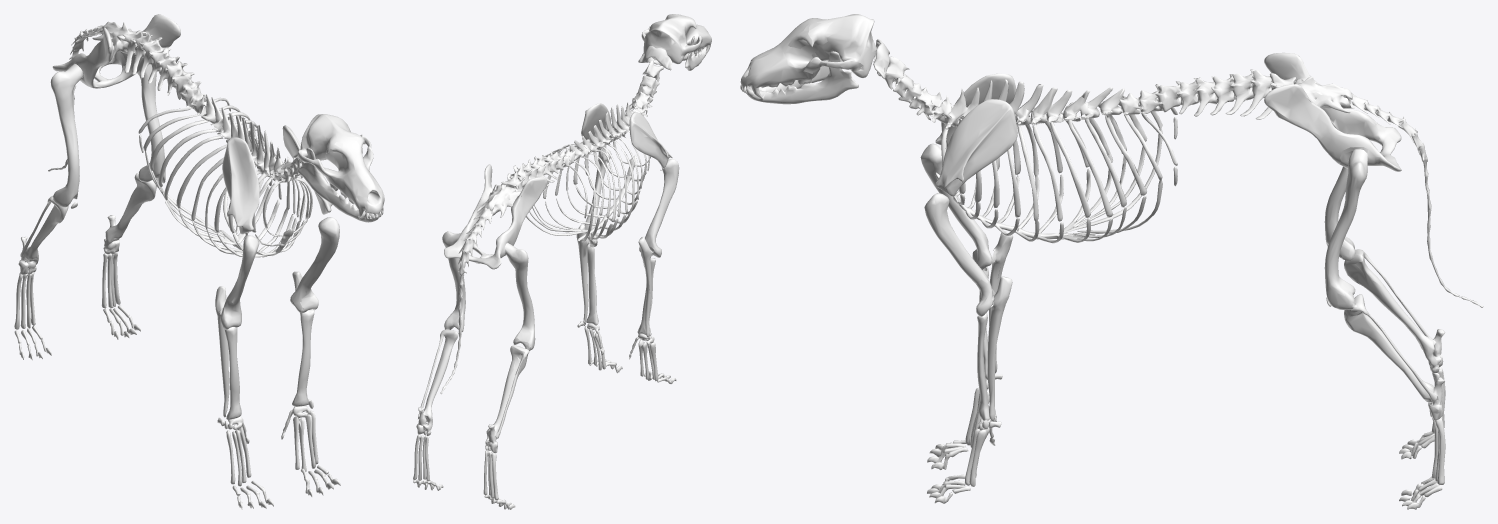
File: skel 1.glb
3 views of the same model, side by side, from view 1: azimuth 30°, elevation 25°; view 2: azimuth 150°, elevation 25°; view 3: azimuth 270°, elevation 25° (orthographic). The views are drawn at different scales.
Parts seen in each view (by area): view 1: Ribcage_and_Sternum.555, Frontal_Bone, Ribcage_and_Sternum.593, Sacroiliac_Joint, Scapula_L, Thigh_Bone_Femur_L, Humerus_R, Thigh_Bone_Femur_R, Tibia_R, Humerus_L, Fibula_L, Radius_R (+9 smaller); view 2: Ribcage_and_Sternum.555, Sacroiliac_Joint, Ribcage_and_Sternum.593, Frontal_Bone, Thigh_Bone_Femur_L, Tibia_R, Fibula_L, Humerus_L, Scapula_L, Sacrum, Thigh_Bone_Femur_R, Ribcage_and_Sternum.001 (+9 smaller); view 3: Ribcage_and_Sternum.555, Frontal_Bone, Ribcage_and_Sternum.593, Sacroiliac_Joint, Scapula_R, Thigh_Bone_Femur_R, Fibula_L, Tibia_R, Humerus_R, Humerus_L, Ribcage_and_Sternum.001, Sacrum (+4 smaller).
Boxes of the visible parts, x1,y1,x2,y2 form: Ribcage_and_Sternum.555: [138, 97, 312, 257]; Frontal_Bone: [297, 114, 384, 222]; Ribcage_and_Sternum.593: [166, 61, 302, 182]; Sacroiliac_Joint: [52, 14, 180, 88]; Scapula_L: [222, 137, 259, 234]; Thigh_Bone_Femur_L: [50, 63, 83, 207]; Humerus_R: [290, 217, 339, 312]; Thigh_Bone_Femur_R: [137, 64, 165, 183]; Tibia_R: [37, 172, 157, 254]; Humerus_L: [220, 235, 259, 329]; Fibula_L: [18, 196, 68, 274]; Radius_R: [292, 309, 314, 406]; Ribcage_and_Sternum.555: [514, 131, 650, 242]; Sacroiliac_Joint: [444, 164, 547, 269]; Ribcage_and_Sternum.593: [537, 75, 659, 174]; Frontal_Bone: [641, 14, 711, 70]; Thigh_Bone_Femur_L: [504, 243, 535, 350]; Tibia_R: [416, 329, 458, 435]; Fibula_L: [485, 345, 529, 452]; Humerus_L: [639, 158, 679, 257]; Scapula_L: [629, 111, 672, 168]; Sacrum: [440, 207, 491, 394]; Thigh_Bone_Femur_R: [442, 231, 465, 331]; Ribcage_and_Sternum.001: [477, 172, 525, 217]; Ribcage_and_Sternum.555: [935, 98, 1177, 243]; Frontal_Bone: [740, 14, 876, 104]; Ribcage_and_Sternum.593: [893, 73, 1200, 128]; Sacroiliac_Joint: [1264, 52, 1401, 171]; Scapula_R: [935, 99, 1017, 196]; Thigh_Bone_Femur_R: [1324, 149, 1368, 310]; Fibula_L: [1344, 249, 1444, 372]; Tibia_R: [1344, 294, 1444, 419]; Humerus_R: [924, 193, 995, 316]; Humerus_L: [920, 143, 992, 269]; Ribcage_and_Sternum.001: [1256, 73, 1354, 119]; Sacrum: [1352, 93, 1483, 307].
Bounding box in the file's own units: 5.41 × 18.09 × 26.18.
1 material, 1 textured.
